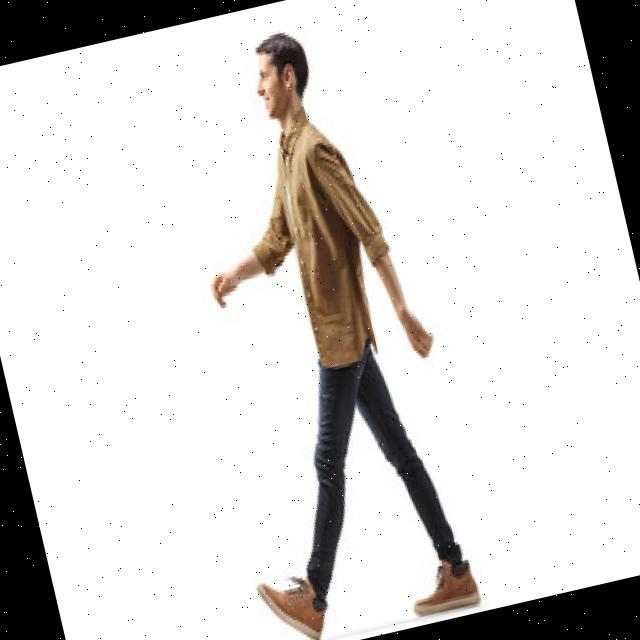Person: (136, 12, 493, 640)
